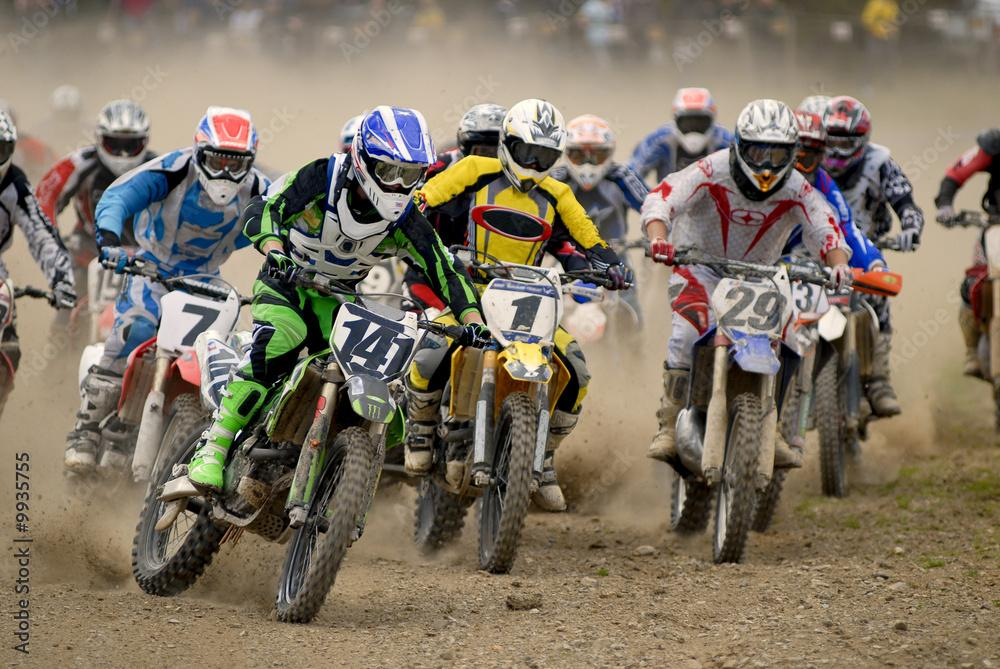helmet: (350, 104, 439, 224), (191, 103, 260, 208), (497, 97, 568, 195), (733, 97, 800, 194), (815, 94, 873, 179), (94, 99, 152, 182), (559, 113, 618, 192), (670, 86, 718, 157)
